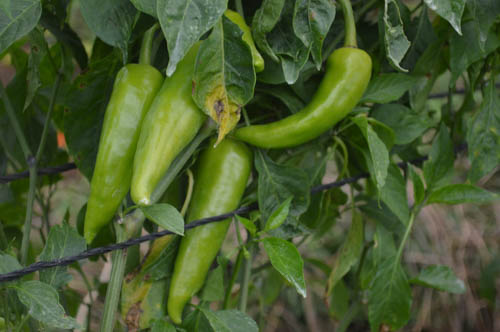ChiliPepper: (169, 138, 252, 318), (131, 44, 215, 209), (237, 48, 375, 143), (84, 64, 158, 241)
